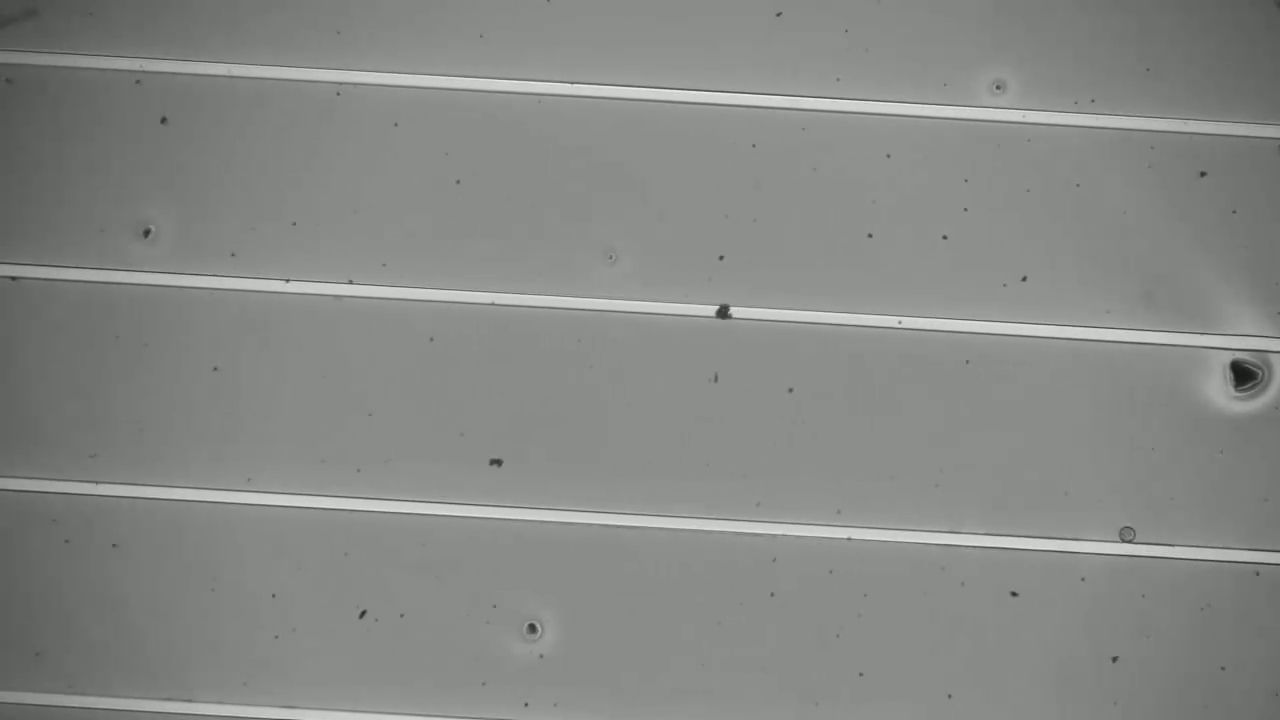stains_enbedded: (705, 293, 739, 327)
